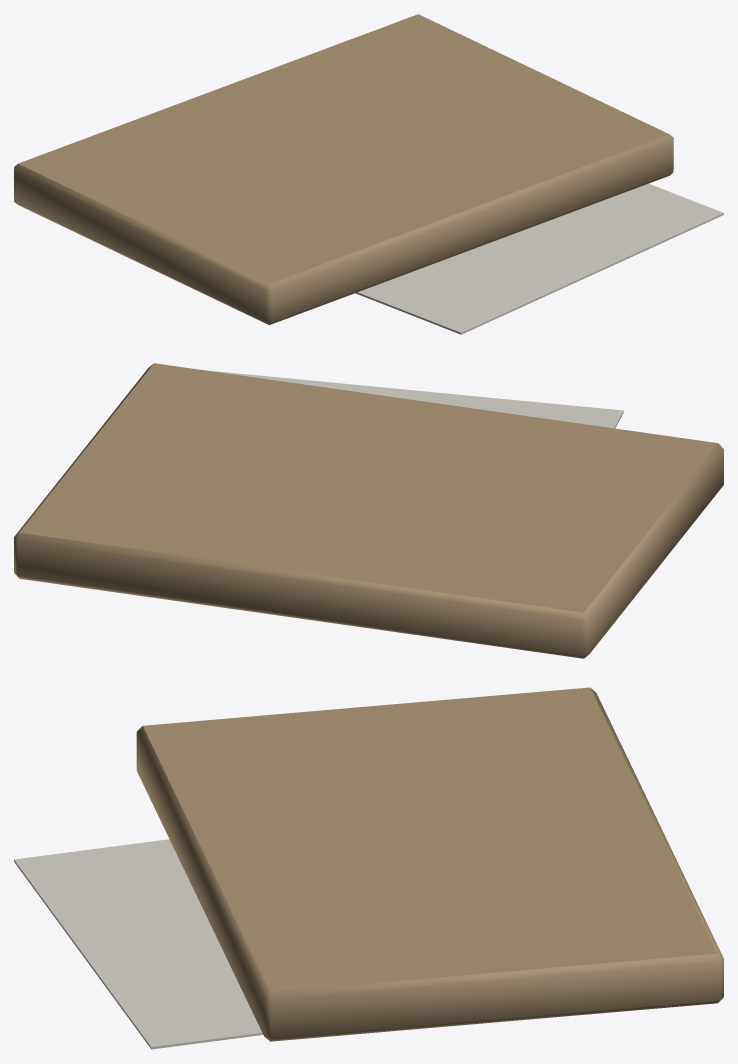
File: item_folder_docs_ground.glb
3 views of the same model, one above another, from view 1: azimuth 30°, elevation 25°; view 2: azimuth 150°, elevation 25°; view 3: azimuth 270°, elevation 25° (orthographic). The views are drawn at different scales.
Visible parts, largest first — view 1: folder_docs_ground; view 2: folder_docs_ground; view 3: folder_docs_ground.
Part boxes in pixels (left/top/right/bottom): folder_docs_ground: left=14, top=14, right=723, bottom=334; folder_docs_ground: left=14, top=363, right=723, bottom=658; folder_docs_ground: left=14, top=687, right=723, bottom=1049.
Size of what is drawn, in the model's own units: 0.347 by 0.029 by 0.3359.
